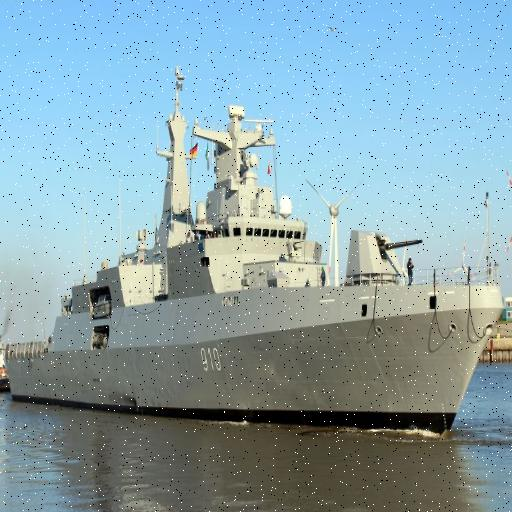Fragata: (1, 67, 512, 438)
